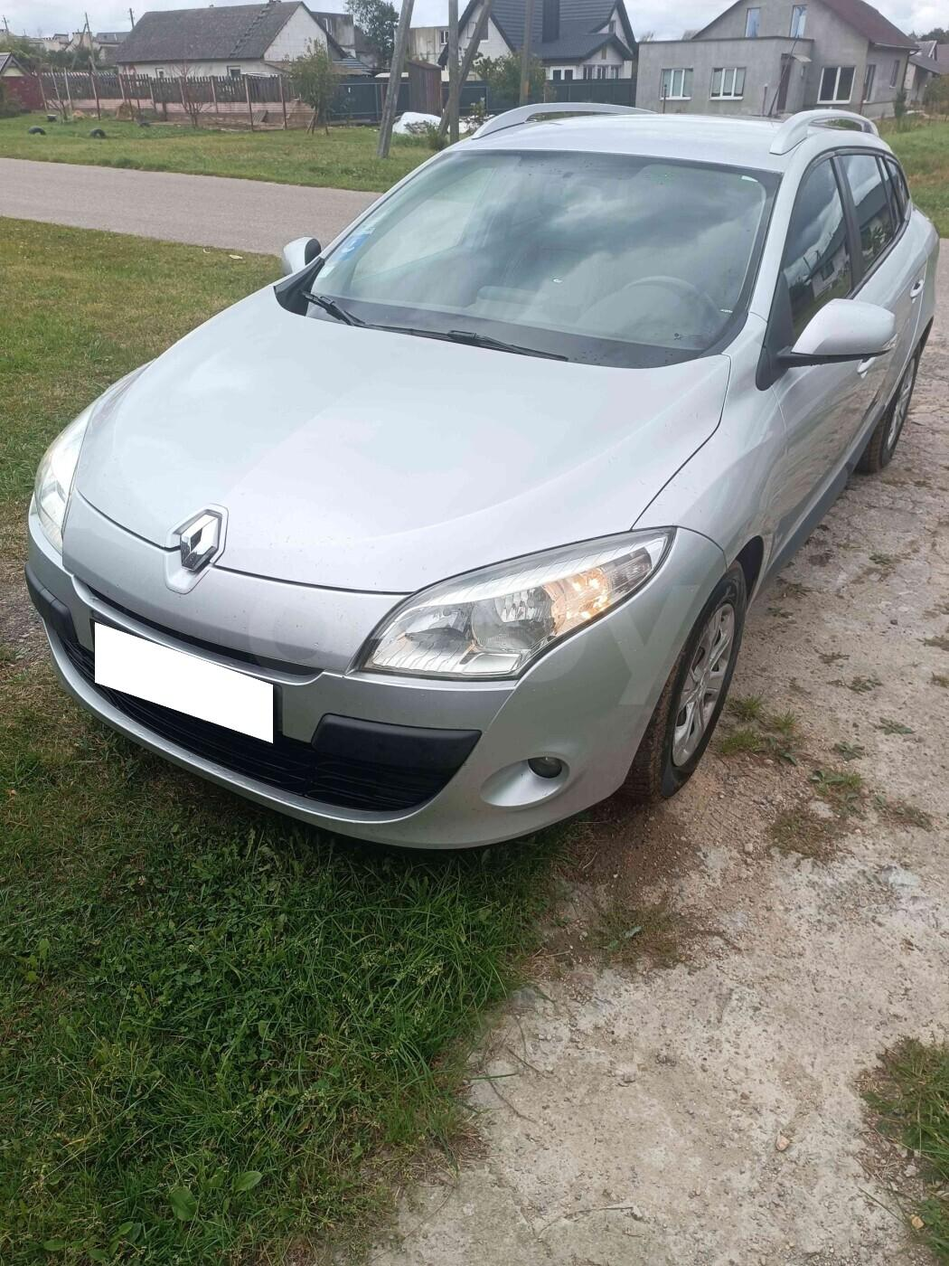Megane_2008-2014: (22, 107, 949, 854)
